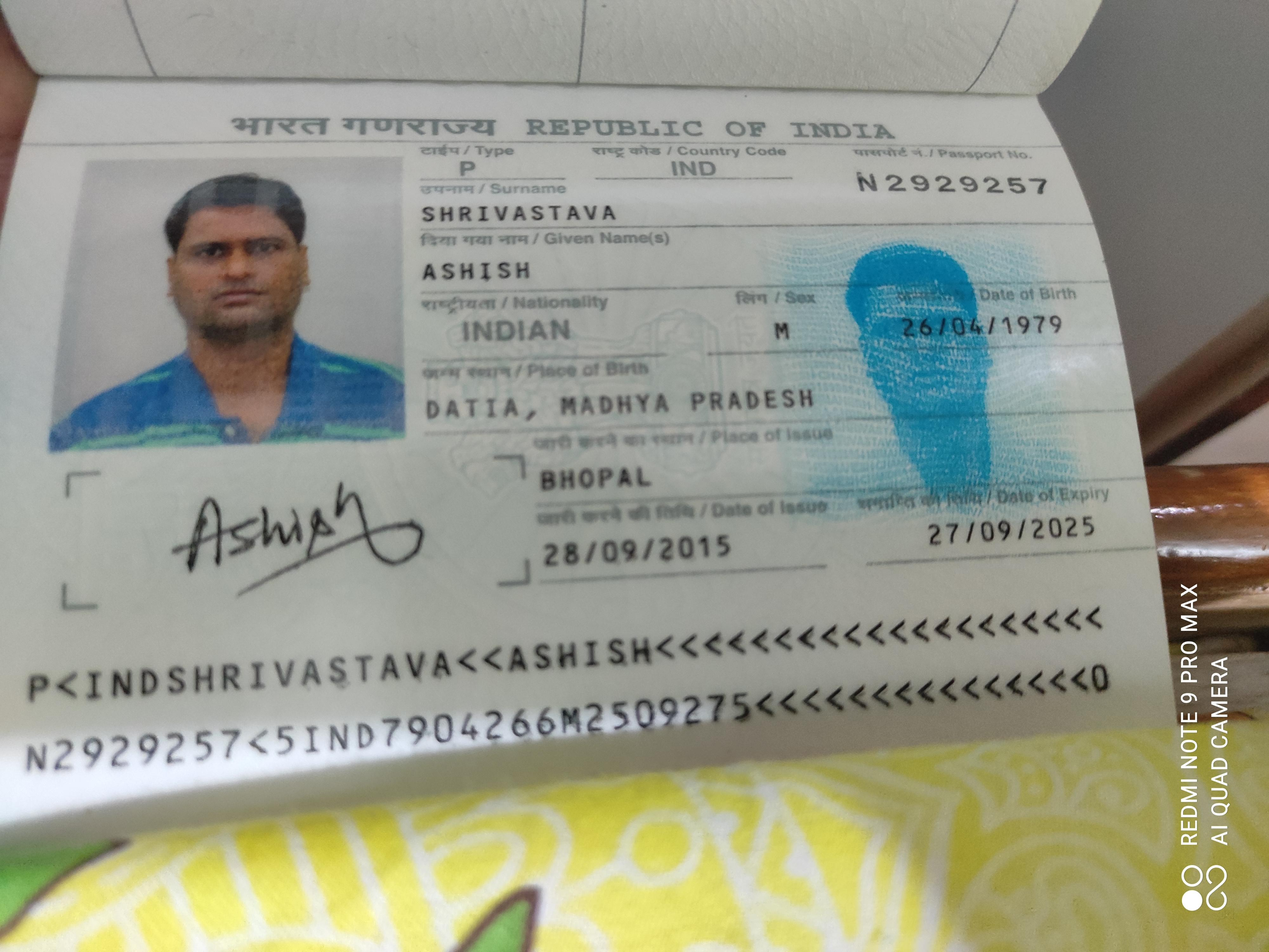DOB: (802, 659, 863, 804)
Surname: (962, 312, 1009, 474)
country_code: (1017, 490, 1067, 544)
date_of_expiry: (522, 678, 597, 836)
date_of_issue: (503, 397, 564, 558)
details: (180, 14, 493, 844)
name: (886, 312, 926, 411)
nationality: (802, 334, 851, 447)
passport_no: (996, 635, 1049, 800)
photo: (673, 39, 1060, 303)
place_of_birth: (700, 311, 770, 619)
place_of_issue: (601, 393, 662, 494)
sex: (802, 558, 857, 610)
sign: (465, 100, 637, 310)
type: (1024, 330, 1068, 372)
